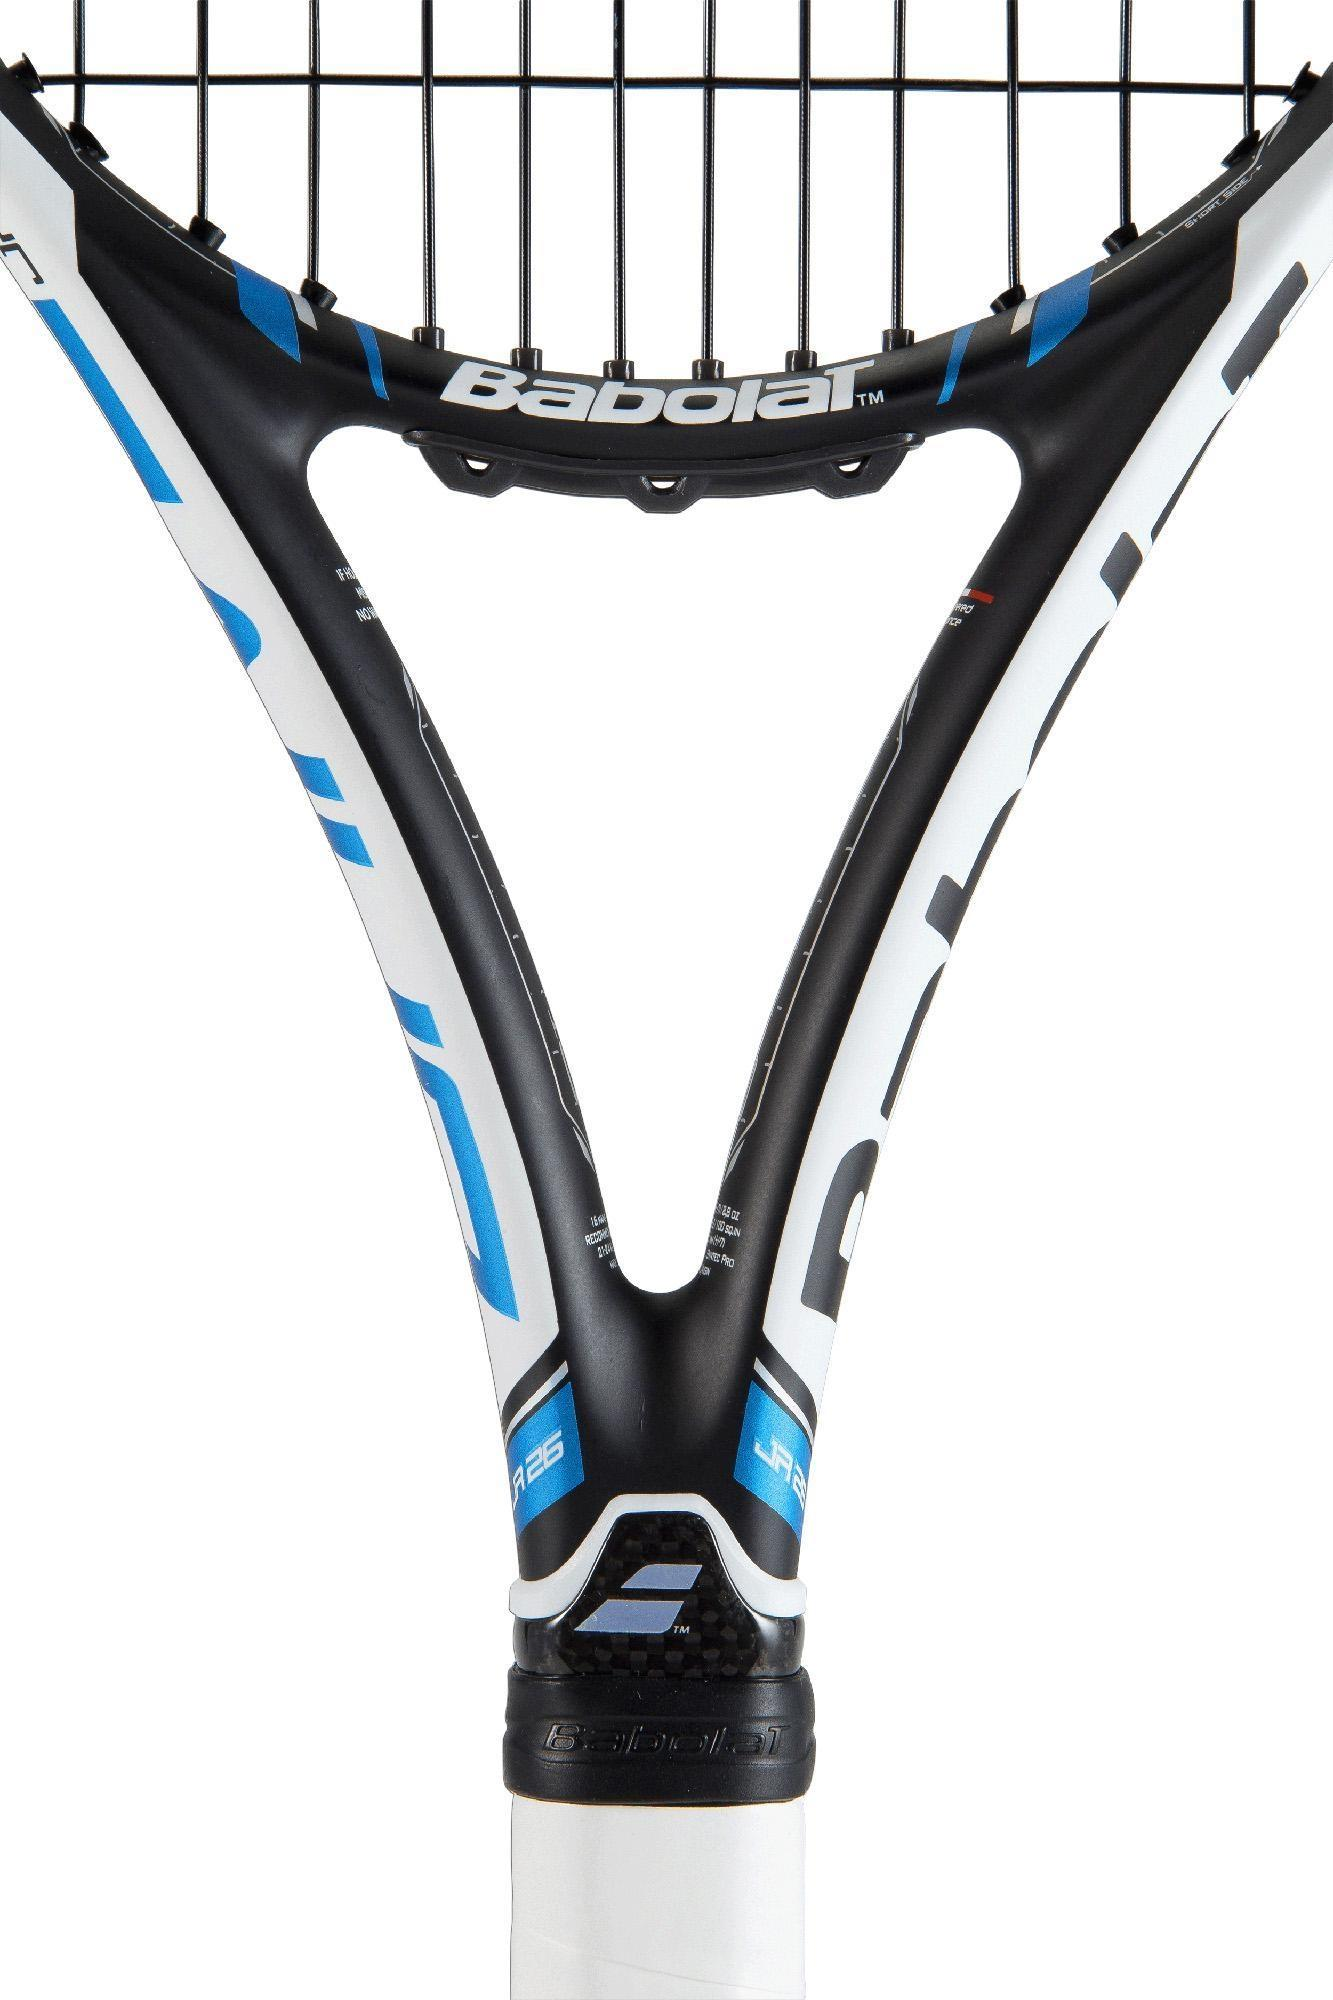Tennis-Racket: (0, 65, 1332, 2000)
